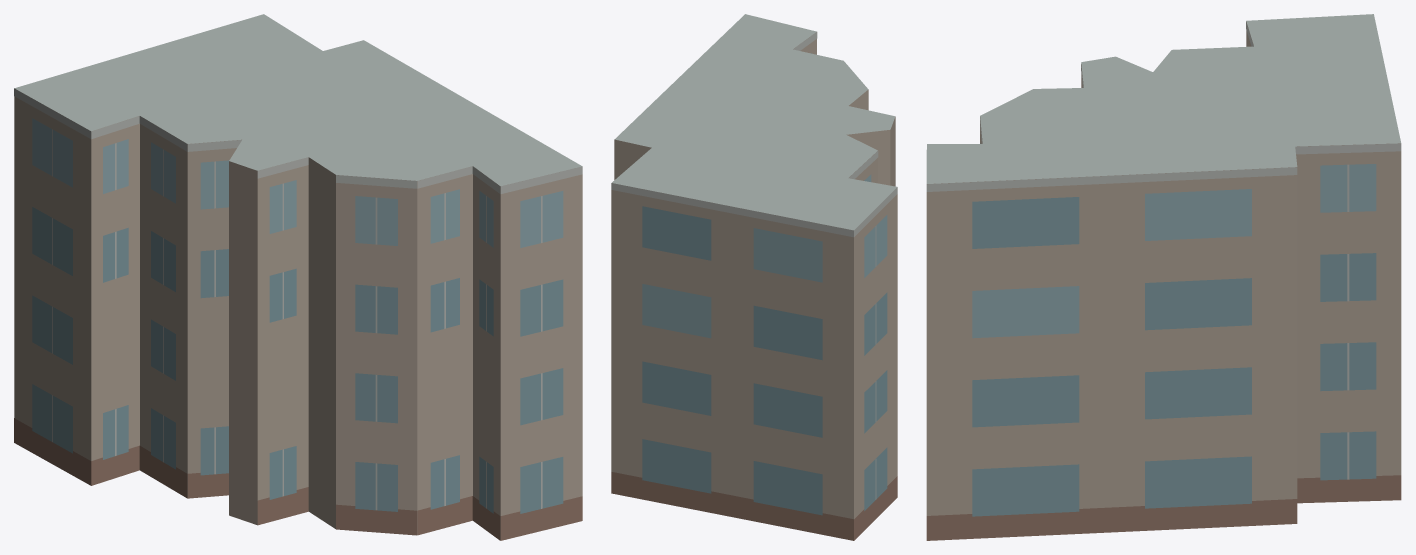
Rendered from survey-upis-32641017.glb.
3 renders of one model, left to right at view 1: azimuth 30°, elevation 25°; view 2: azimuth 150°, elevation 25°; view 3: azimuth 270°, elevation 25°, orthographic. The views are drawn at different scales.
Visible parts, largest first — view 1: survey-upis-32641017.tmp; view 2: survey-upis-32641017.tmp; view 3: survey-upis-32641017.tmp.
Part boxes in pixels (bbox=[...]): survey-upis-32641017.tmp: bbox=[14, 14, 582, 540]; survey-upis-32641017.tmp: bbox=[611, 14, 897, 540]; survey-upis-32641017.tmp: bbox=[926, 14, 1401, 540].
Bounding box in the file's own units: 11.15 × 10.9 × 13.16.
